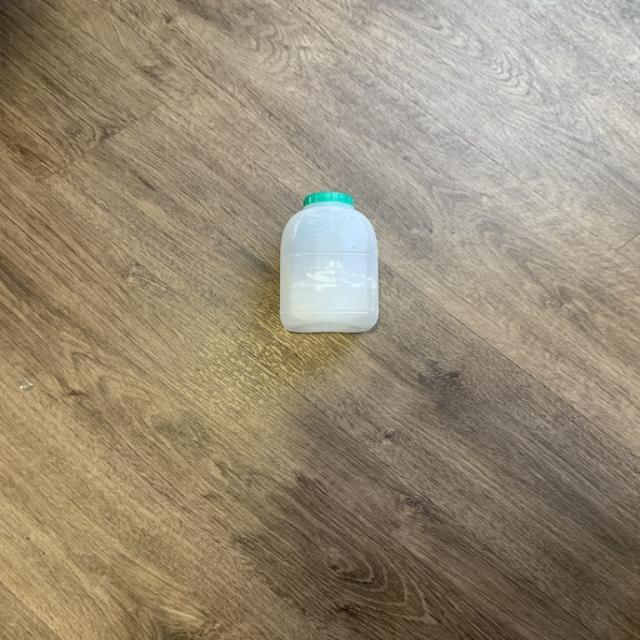litter: (278, 193, 387, 335)
